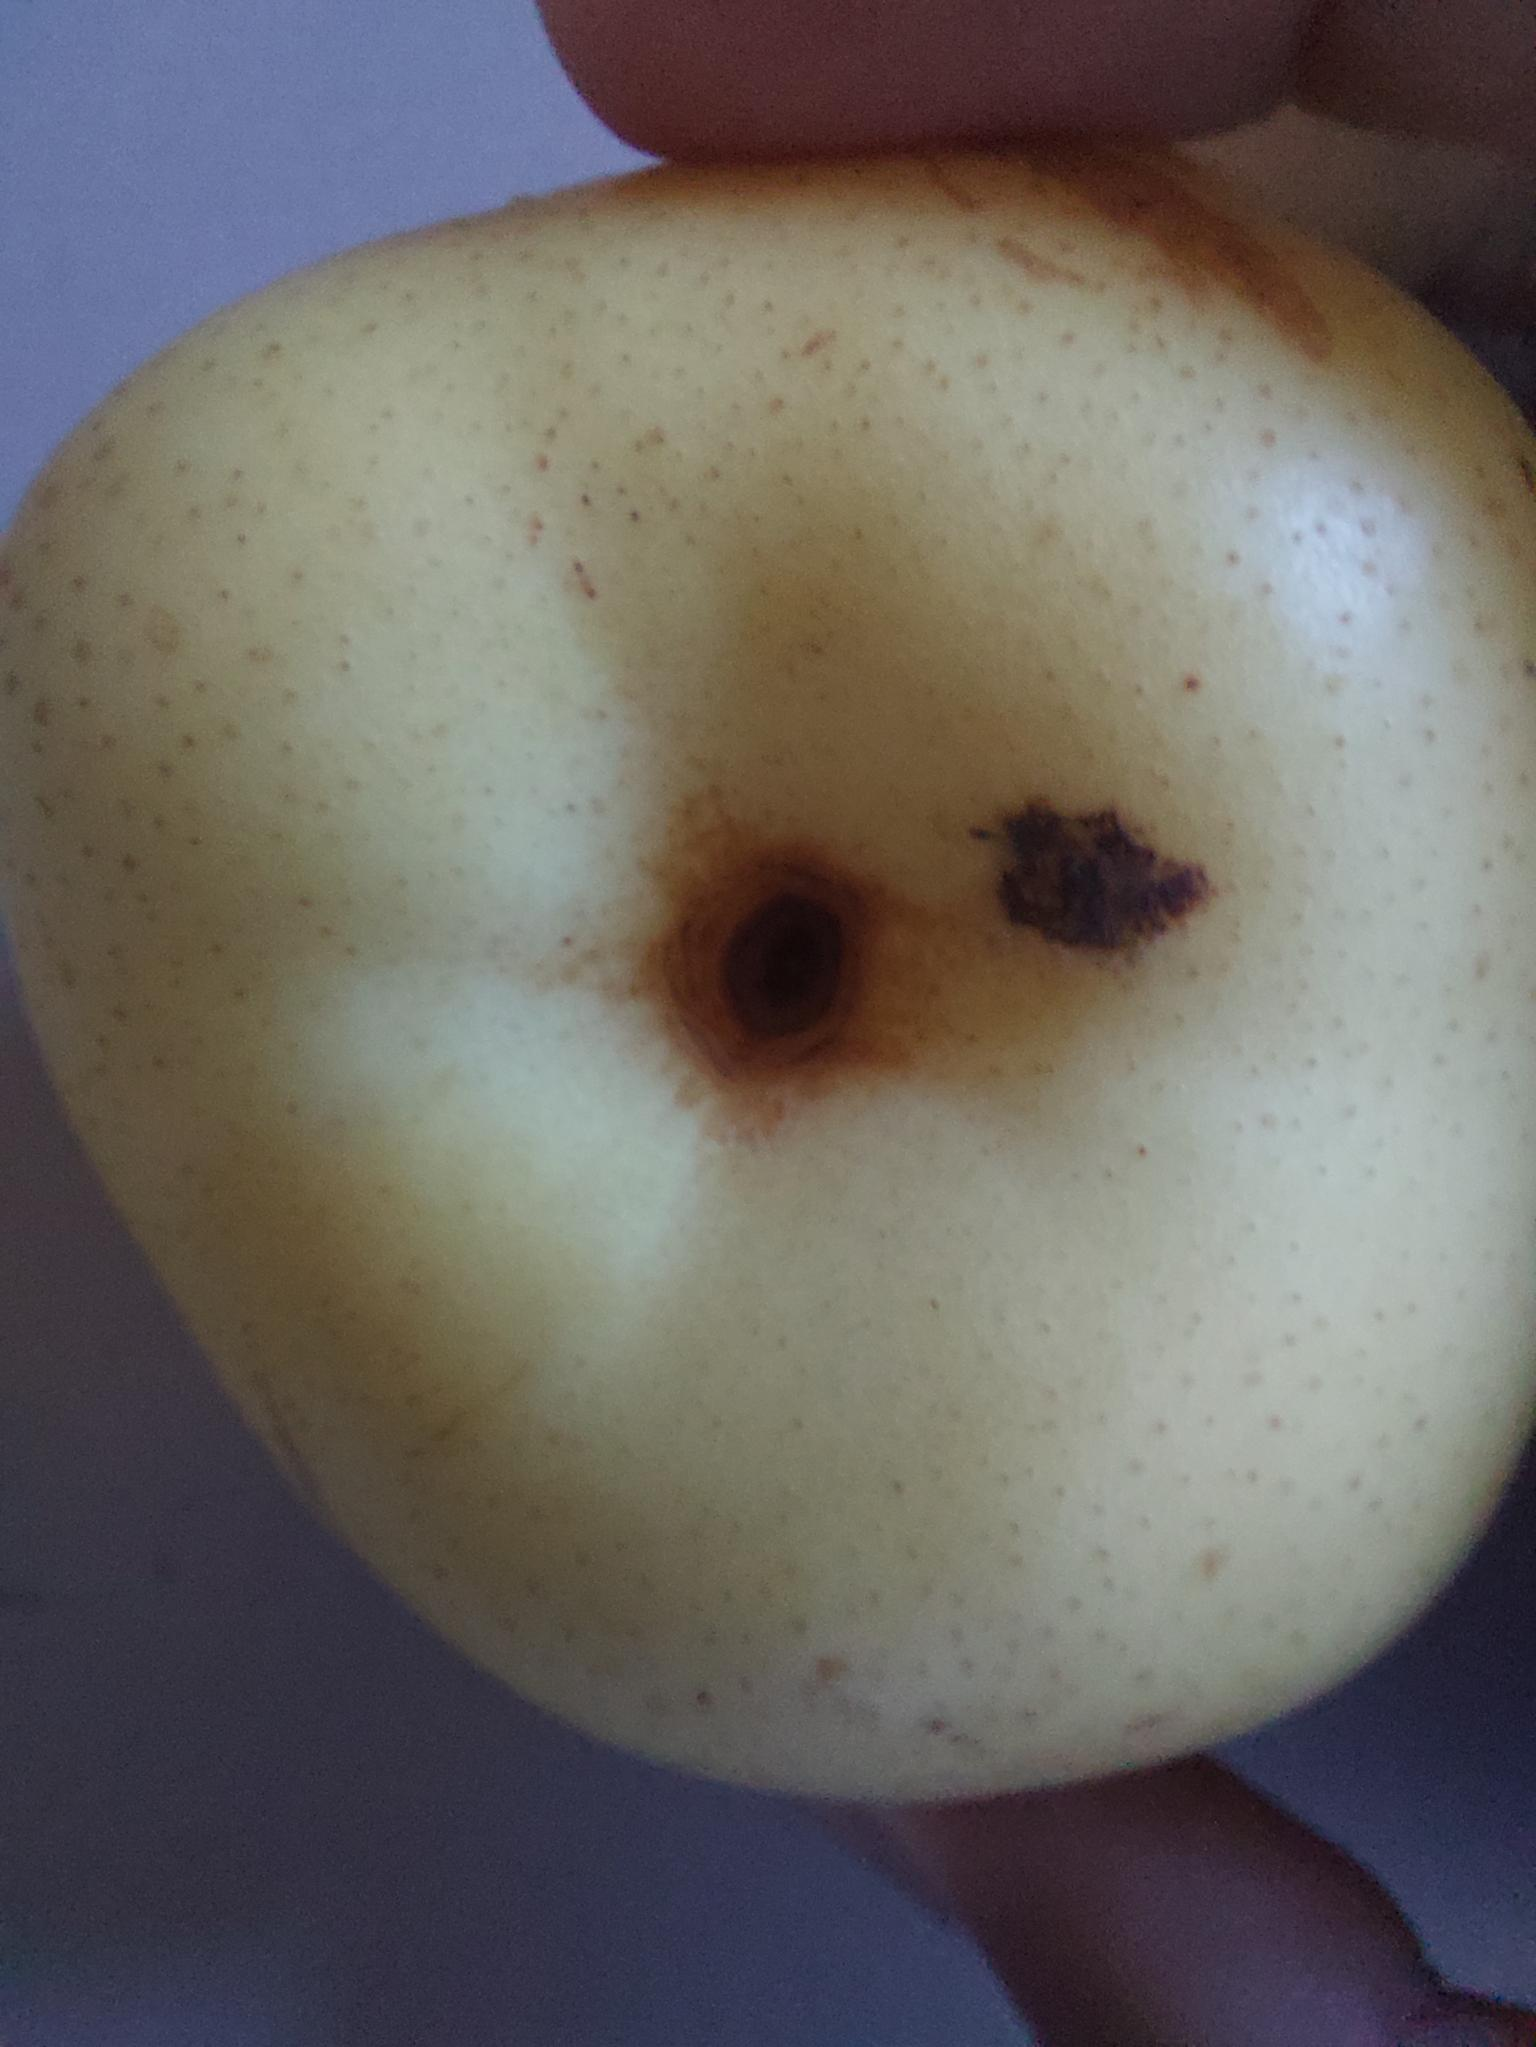Good Pear: (8, 135, 1530, 1799)
